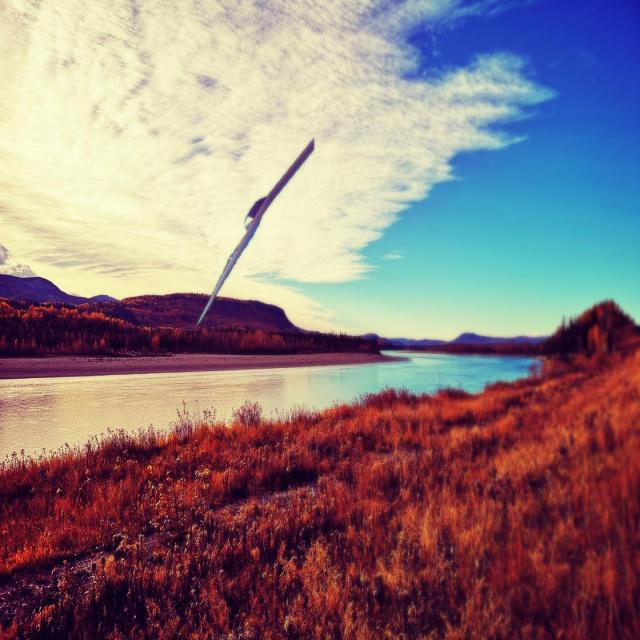airplane: (194, 137, 314, 325)
